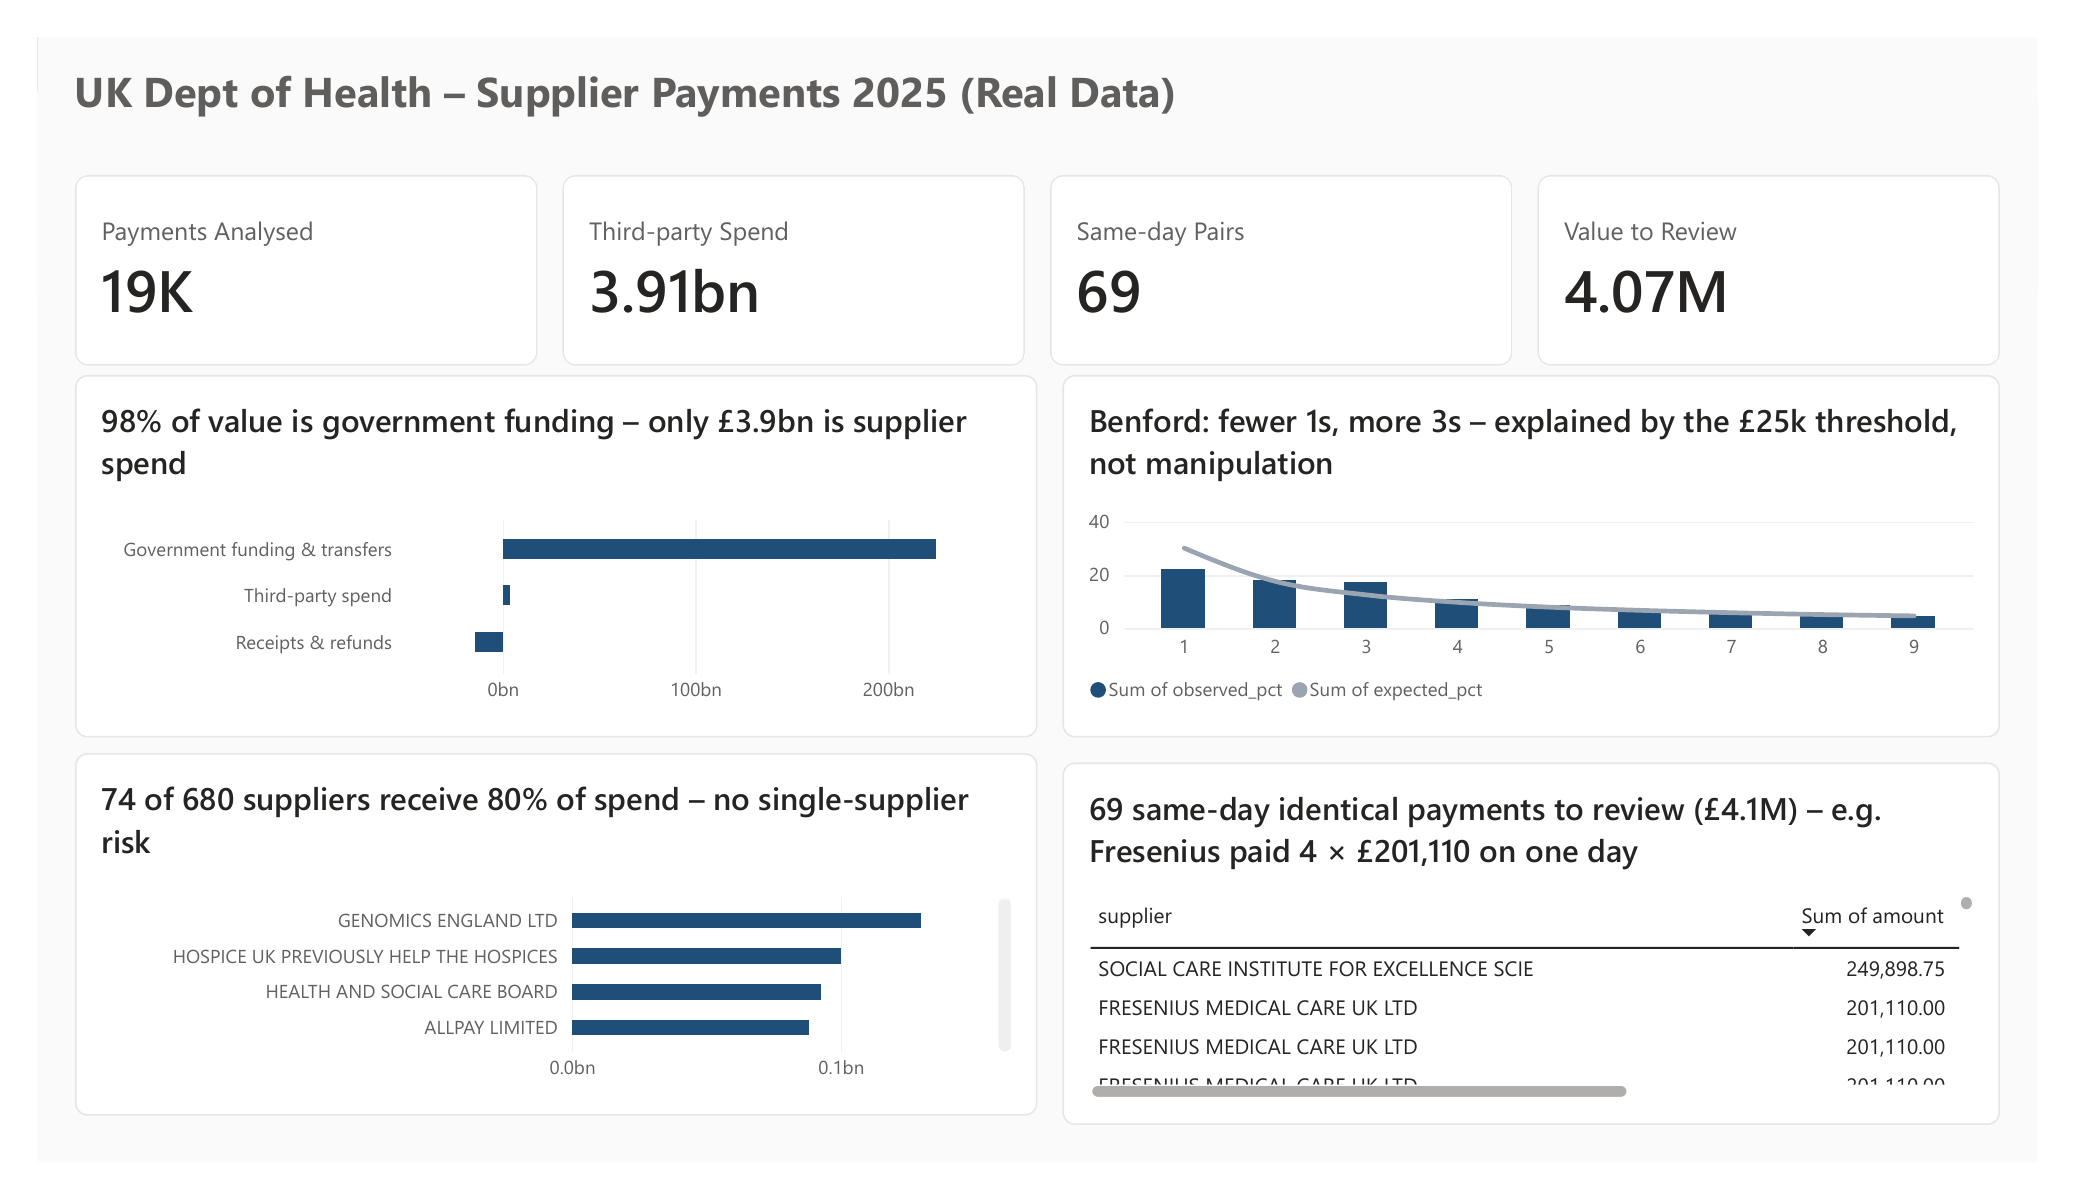

The dashboard page shown, as its layout file describes it:
{"tool":"powerbi","page":{"name":"Real Data - Audit Analytics","canvas":[1280,720],"ordinal":1},"visuals":[{"type":"textbox","box":[24,16,1232,56],"z":0},{"type":"cardVisual","fields":{"Data":["payments_clean.Payments Analysed"]},"box":[24,88,296,122],"z":1},{"type":"cardVisual","fields":{"Data":["payments_clean.Third-party Spend"]},"box":[336,88,296,122],"z":2},{"type":"cardVisual","fields":{"Data":["payments_clean.Same-day Pairs"]},"box":[648,88,296,122],"z":3},{"type":"cardVisual","fields":{"Data":["payments_clean.Value to Review"]},"box":[960,88,296,122],"z":4},{"type":"clusteredBarChart","title":"98% of value is government funding – only £3.9bn is supplier spend","fields":{"Category":["payments_clean.segment"],"Y":["Sum(payments_clean.amount)"]},"box":[24,216,616,232],"z":5},{"type":"lineClusteredColumnComboChart","title":"Benford: fewer 1s, more 3s – explained by the £25k threshold, not manipulation","fields":{"Category":["benford.digit"],"Y":["Sum(benford.observed_pct)"],"Y2":["Sum(benford.expected_pct)"]},"box":[656,216,600,232],"z":6},{"type":"clusteredBarChart","title":"74 of 680 suppliers receive 80% of spend – no single-supplier risk","fields":{"Category":["payments_clean.supplier"],"Y":["Sum(payments_clean.amount)"]},"box":[24,458,616,232],"z":7},{"type":"tableEx","title":"69 same-day identical payments to review (£4.1M) – e.g. Fresenius paid 4 × £201,110 on one day","fields":{"Values":["possible_duplicates.supplier","Sum(possible_duplicates.amount)","possible_duplicates.transaction_number","possible_duplicates.date.Variation.Date Hierarchy.Year","possible_duplicates.date.Variation.Date Hierarchy.Quarter","possible_duplicates.date.Variation.Date Hierarchy.Month","possible_duplicates.date.Variation.Date Hierarchy.Day"]},"box":[656,464,600,232],"z":8}]}

Visuals, with their boxes on the page's 1280x720 design canvas (x1, y1, x2, y2). These are canvas units, not pixel positions in the 2075x1200 screenshot, which may show the page scaled, cropped or inside an application window:
textbox: {"left": 24, "top": 16, "right": 1256, "bottom": 72}
cardVisual - payments_clean.Payments Analysed: {"left": 24, "top": 88, "right": 320, "bottom": 210}
cardVisual - payments_clean.Third-party Spend: {"left": 336, "top": 88, "right": 632, "bottom": 210}
cardVisual - payments_clean.Same-day Pairs: {"left": 648, "top": 88, "right": 944, "bottom": 210}
cardVisual - payments_clean.Value to Review: {"left": 960, "top": 88, "right": 1256, "bottom": 210}
"98% of value is government funding – only £3.9bn is supplier spend" clusteredBarChart: {"left": 24, "top": 216, "right": 640, "bottom": 448}
"Benford: fewer 1s, more 3s – explained by the £25k threshold, not manipulation" lineClusteredColumnComboChart: {"left": 656, "top": 216, "right": 1256, "bottom": 448}
"74 of 680 suppliers receive 80% of spend – no single-supplier risk" clusteredBarChart: {"left": 24, "top": 458, "right": 640, "bottom": 690}
"69 same-day identical payments to review (£4.1M) – e.g. Fresenius paid 4 × £201,110 on one day" tableEx: {"left": 656, "top": 464, "right": 1256, "bottom": 696}
